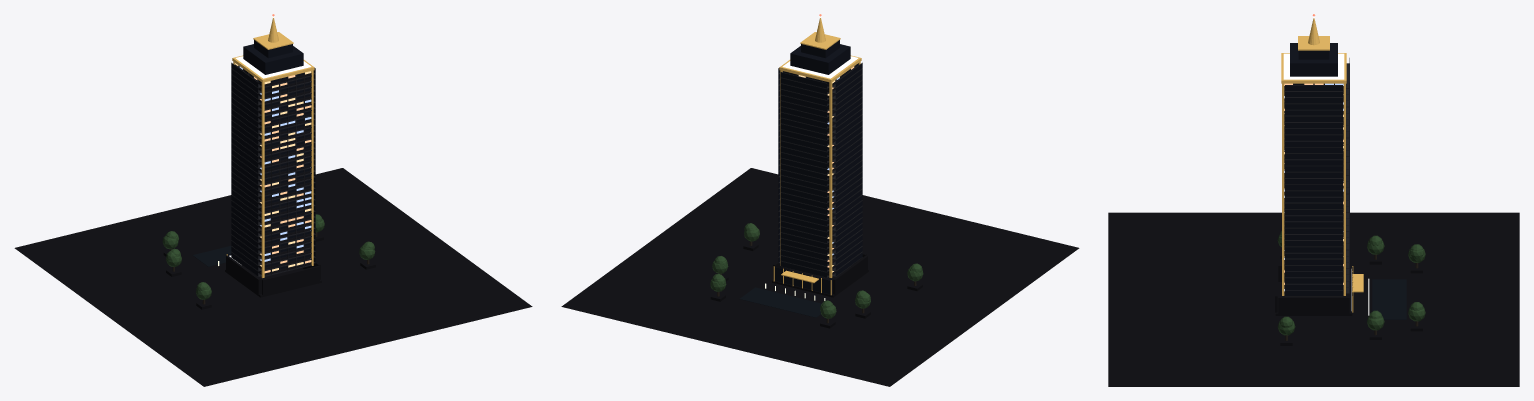
File: tower.glb
3 views of the same model, side by side, from view 1: azimuth 30°, elevation 25°; view 2: azimuth 150°, elevation 25°; view 3: azimuth 270°, elevation 25° (orthographic). The views are drawn at different scales.
Parts seen in each view (by area): view 1: plaza, facade_struct, balcony_glass, facade_glass, balconies, podium, mullions, crown_glass, corner_fins, canopies, crown_gold, pool; view 2: plaza, balcony_glass, balconies, canopies, crown_glass, pool, podium, corner_fins, crown_gold, facade_struct, podium_glass, planters (+1 smaller); view 3: plaza, balcony_glass, balconies, podium, canopies, crown_glass, pool, corner_fins, crown_gold, crown_glow, planters.
Part boxes in pixels (<box>): plaza: <box>14,168,532,386</box>; facade_struct: <box>235,64,311,276</box>; balcony_glass: <box>231,63,315,276</box>; facade_glass: <box>235,63,311,273</box>; balconies: <box>231,62,315,276</box>; podium: <box>225,255,321,297</box>; mullions: <box>238,65,304,274</box>; crown_glass: <box>243,40,303,74</box>; corner_fins: <box>233,62,313,277</box>; canopies: <box>162,214,375,299</box>; crown_gold: <box>232,18,314,82</box>; pool: <box>192,246,231,266</box>; plaza: <box>561,168,1079,386</box>; balcony_glass: <box>778,63,862,277</box>; balconies: <box>778,62,862,277</box>; canopies: <box>710,223,923,318</box>; crown_glass: <box>790,40,850,74</box>; pool: <box>740,287,821,317</box>; podium: <box>772,253,868,297</box>; corner_fins: <box>780,62,860,277</box>; crown_gold: <box>779,18,861,82</box>; facade_struct: <box>798,64,858,276</box>; podium_glass: <box>774,267,830,294</box>; planters: <box>710,242,922,328</box>; plaza: <box>1108,212,1519,386</box>; balcony_glass: <box>1285,83,1349,295</box>; balconies: <box>1285,58,1349,296</box>; podium: <box>1275,265,1352,315</box>; canopies: <box>1277,231,1425,335</box>; crown_glass: <box>1290,43,1337,76</box>; pool: <box>1372,279,1406,319</box>; corner_fins: <box>1282,83,1345,295</box>; crown_gold: <box>1281,18,1346,83</box>; crown_glow: <box>1283,16,1344,79</box>; planters: <box>1280,250,1422,345</box>.
Size of the model in its own units: 60 by 45.98 by 60.
